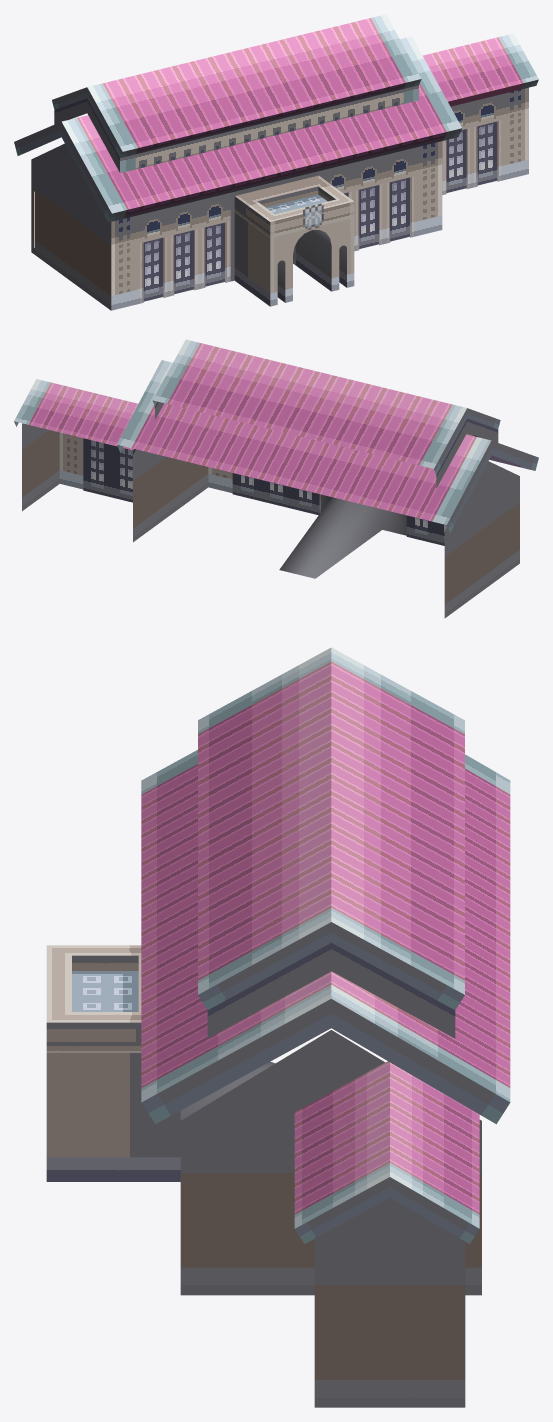
File: museum.glb
The picture shows the model from 3 angles, top to bottom: view 1: azimuth 30°, elevation 25°; view 2: azimuth 150°, elevation 25°; view 3: azimuth 270°, elevation 25°; orthographic projection. The views are drawn at different scales.
Parts seen in each view (by area): view 1: Pewter Museum of Science; view 2: Pewter Museum of Science; view 3: Pewter Museum of Science.
Boxes of the visible parts, bbox=[...] form: Pewter Museum of Science: bbox=[14, 14, 538, 310]; Pewter Museum of Science: bbox=[14, 339, 538, 618]; Pewter Museum of Science: bbox=[46, 647, 510, 1407].
Size of the model in its own units: 243 by 94.52 by 112.
11 materials, 11 textured.
